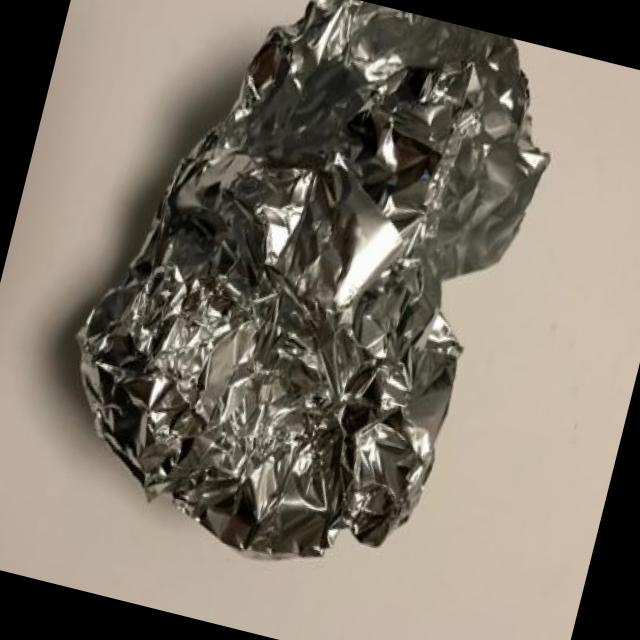kim_loai: (78, 0, 551, 561)
